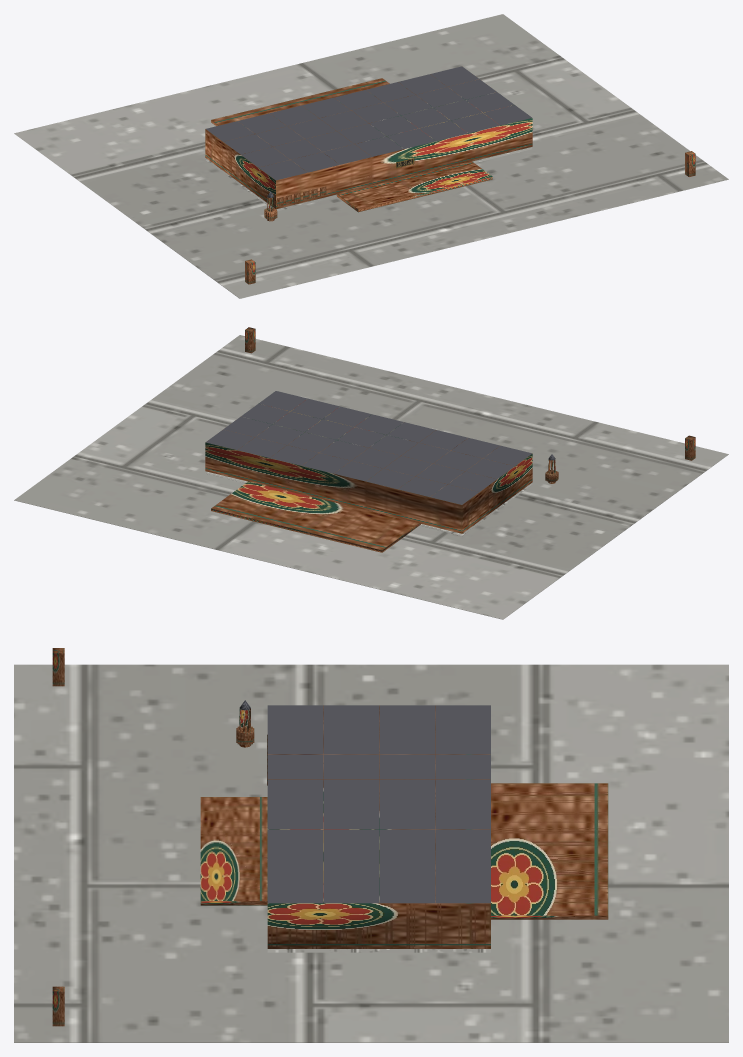
The picture shows the model from 3 angles, top to bottom: view 1: azimuth 30°, elevation 25°; view 2: azimuth 150°, elevation 25°; view 3: azimuth 270°, elevation 25°; orthographic projection. The views are drawn at different scales.
Visible parts, largest first — view 1: 11710_01_05551_006_01_L2__base, 11710_01_05551_006_03_L2__roof, 11710_01_05551_006_02_L2__body, 11710_01_05551_006_06_L2__green; view 2: 11710_01_05551_006_01_L2__base, 11710_01_05551_006_03_L2__roof, 11710_01_05551_006_02_L2__body, 11710_01_05551_006_06_L2__green; view 3: 11710_01_05551_006_01_L2__base, 11710_01_05551_006_03_L2__roof, 11710_01_05551_006_02_L2__body, 11710_01_05551_006_06_L2__green.
Part boxes in pixels (x1=…): 11710_01_05551_006_01_L2__base: x1=14, y1=14, x2=728, y2=298; 11710_01_05551_006_03_L2__roof: x1=206, y1=66, x2=531, y2=197; 11710_01_05551_006_02_L2__body: x1=205, y1=74, x2=532, y2=221; 11710_01_05551_006_06_L2__green: x1=245, y1=151, x2=695, y2=284; 11710_01_05551_006_01_L2__base: x1=14, y1=335, x2=728, y2=619; 11710_01_05551_006_03_L2__roof: x1=206, y1=391, x2=555, y2=504; 11710_01_05551_006_02_L2__body: x1=205, y1=400, x2=558, y2=552; 11710_01_05551_006_06_L2__green: x1=245, y1=327, x2=695, y2=460; 11710_01_05551_006_01_L2__base: x1=14, y1=664, x2=728, y2=1042; 11710_01_05551_006_03_L2__roof: x1=239, y1=700, x2=490, y2=903; 11710_01_05551_006_02_L2__body: x1=200, y1=705, x2=608, y2=948; 11710_01_05551_006_06_L2__green: x1=52, y1=648, x2=64, y2=1026.
Bounding box in the file's own units: 160 × 9.82 × 128.
Materials: 5 (5 with a texture image).
